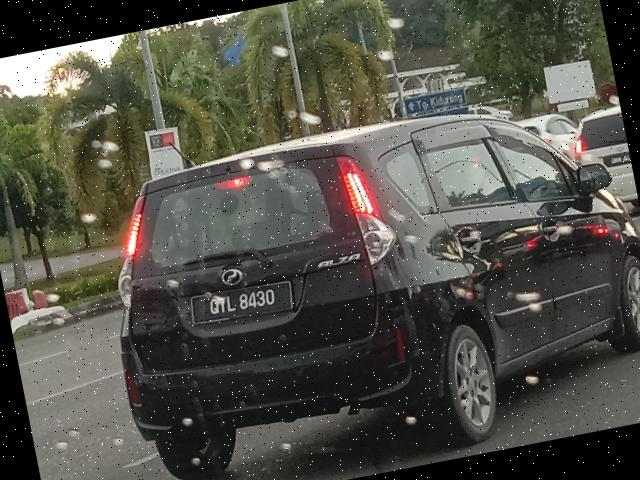License_Plate: (189, 278, 297, 328)
car: (78, 73, 640, 480)
